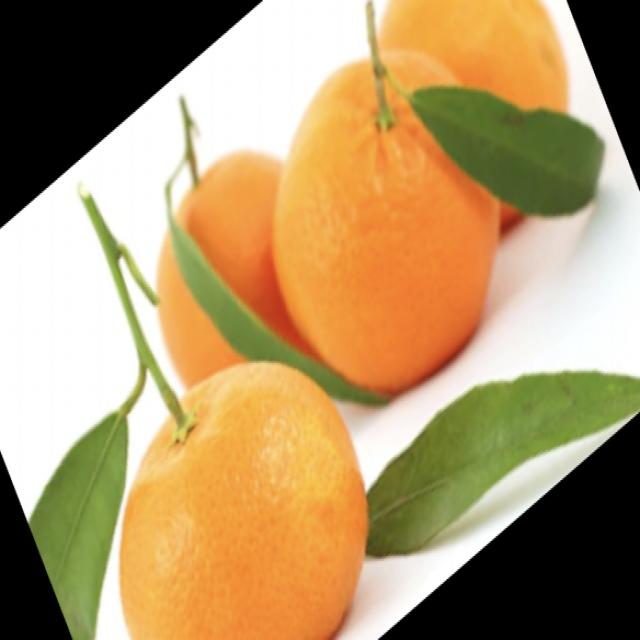fresh: (40, 0, 577, 640)
